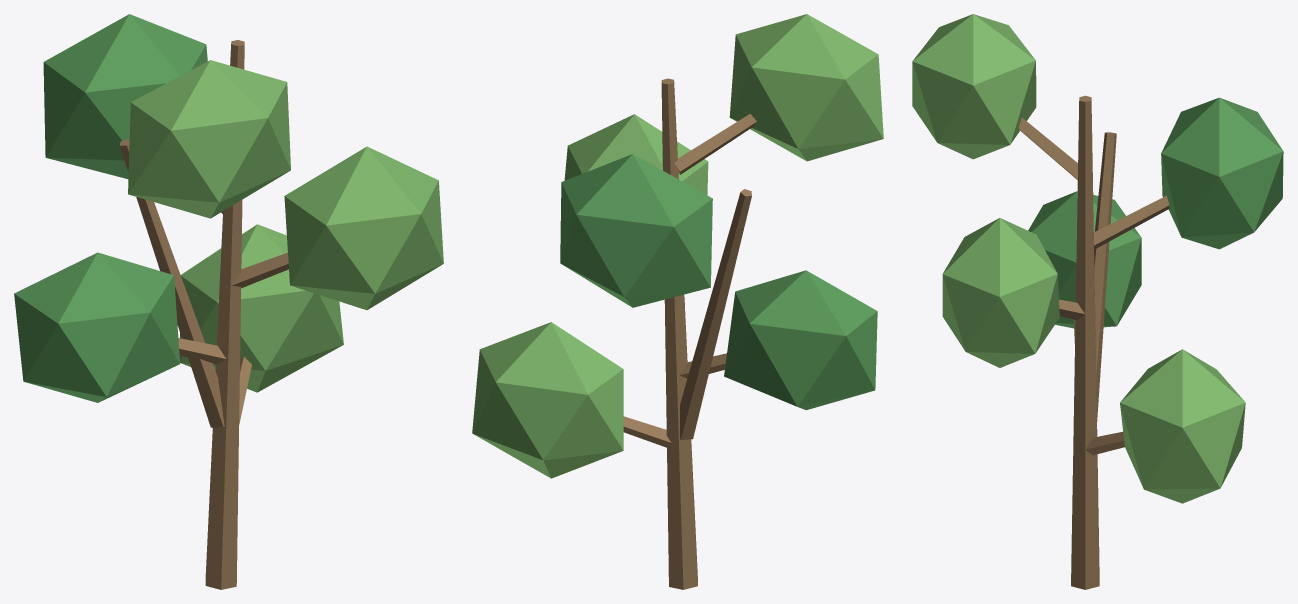
Rendered from oak_sapling_02.glb.
3 renders of one model, left to right at view 1: azimuth 30°, elevation 25°; view 2: azimuth 150°, elevation 25°; view 3: azimuth 270°, elevation 25°, orthographic. The views are drawn at different scales.
Parts seen in each view (by area): view 1: Oak_sapling_02; view 2: Oak_sapling_02; view 3: Oak_sapling_02.
Boxes of the visible parts, x1,y1,x2,y2 form: Oak_sapling_02: (14,14,443,589); Oak_sapling_02: (472,14,883,589); Oak_sapling_02: (912,14,1283,589).
Bounding box in the file's own units: 1.55 × 2.33 × 1.46.
